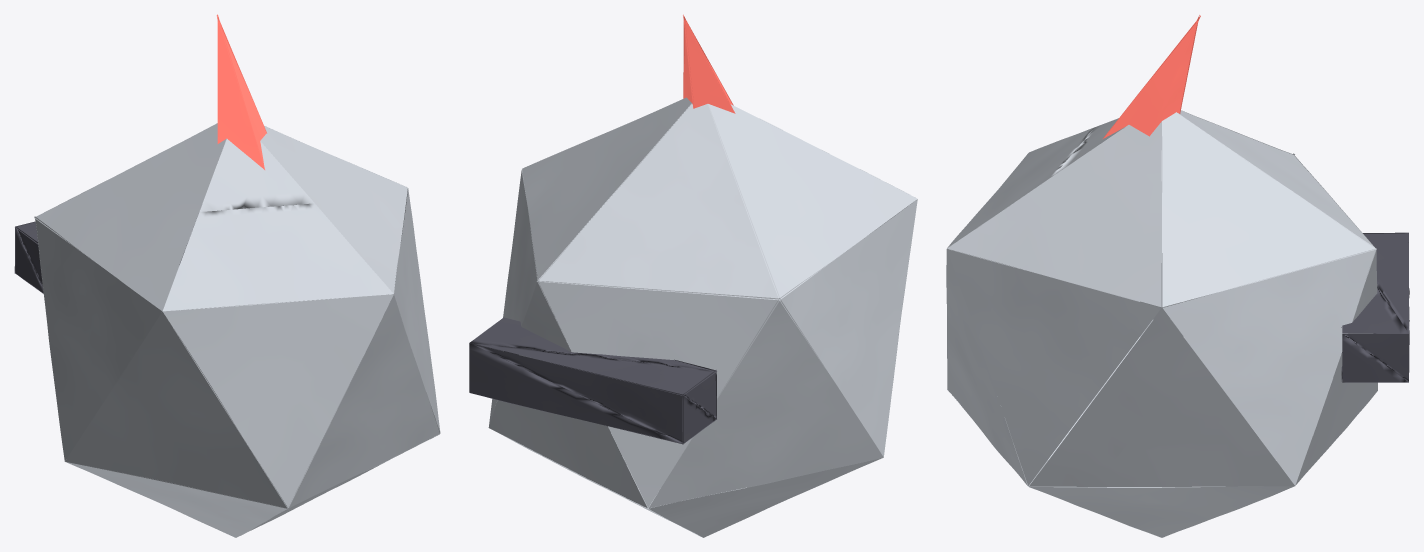
The model's file is helmet.glb.
The picture shows the model from 3 angles, left to right: view 1: azimuth 30°, elevation 25°; view 2: azimuth 150°, elevation 25°; view 3: azimuth 270°, elevation 25°; orthographic projection. The views are drawn at different scales.
Visible parts, largest first — view 1: Helmet; view 2: Helmet; view 3: Helmet.
Part boxes in pixels (bbox=[...]): Helmet: bbox=[14, 14, 440, 537]; Helmet: bbox=[469, 14, 917, 537]; Helmet: bbox=[946, 15, 1409, 537].
Size of the model in its own units: 0.6096 by 0.8655 by 0.6943.
